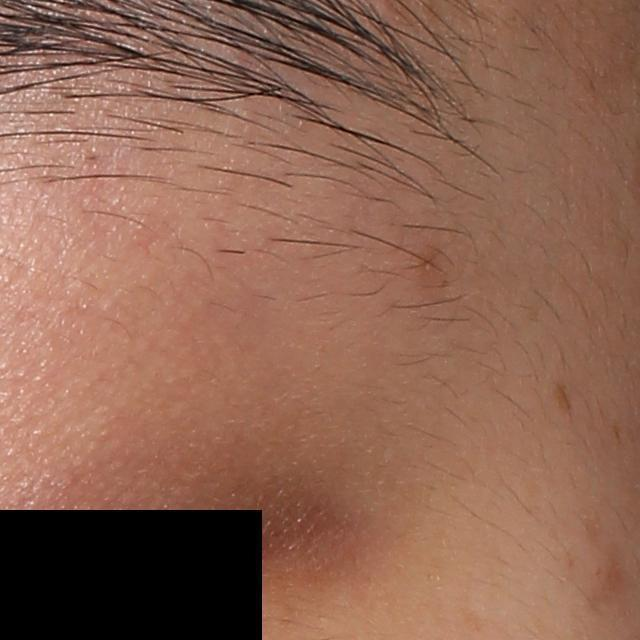melasma: (552, 385, 575, 418)
